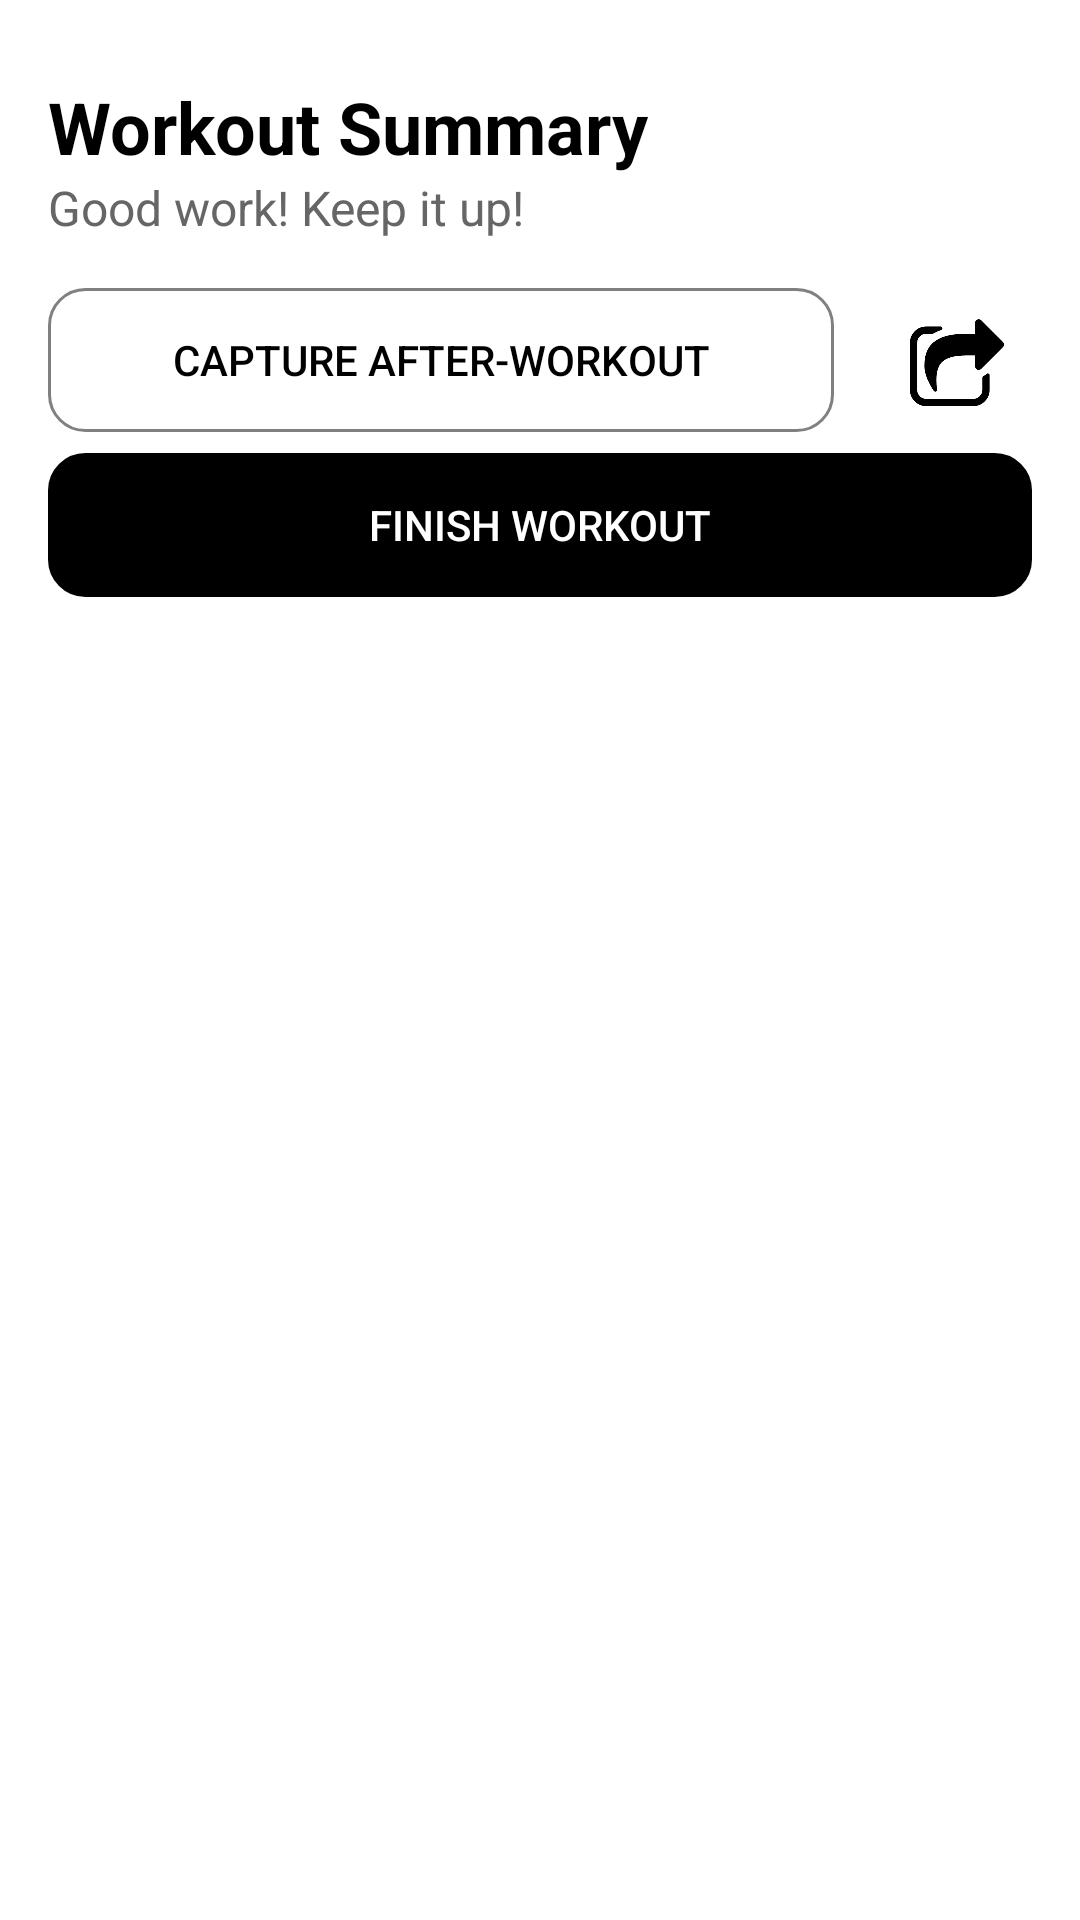

Icon bounding boxes for this 1080 × 1920 phone screenshot, format [x1, y1, x2, y2]:
share: [910, 319, 1004, 406]
